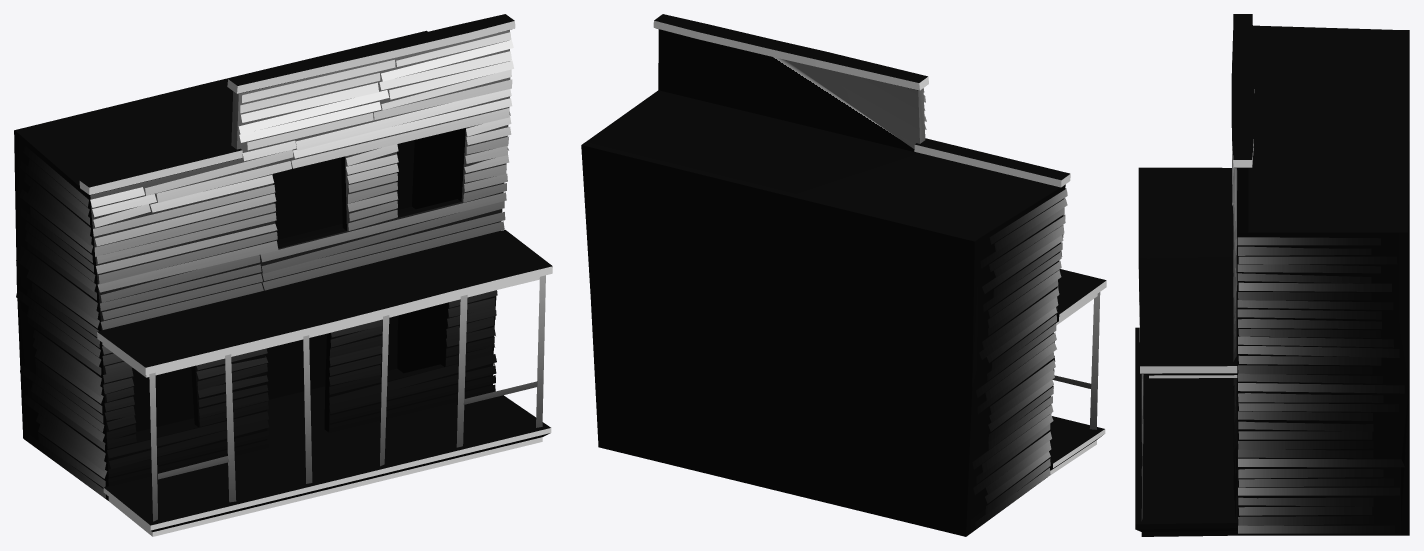
File: Building7.glb
3 renders of one model, left to right at view 1: azimuth 30°, elevation 25°; view 2: azimuth 150°, elevation 25°; view 3: azimuth 270°, elevation 25°, orthographic. The views are drawn at different scales.
Visible parts, largest first — view 1: Building7; view 2: Building7; view 3: Building7.
Boxes of the visible parts, x1,y1,x2,y2 form: Building7: (14, 14, 552, 536); Building7: (581, 14, 1106, 536); Building7: (1135, 14, 1409, 536).
Size of what is drawn, in the model's own units: 12.79 by 11.06 by 7.09.
Materials: 1 (1 with a texture image).
